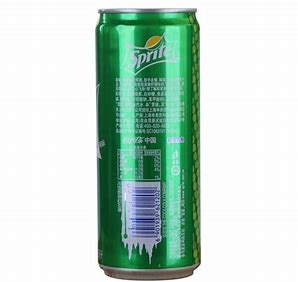Sprite: (93, 5, 206, 281)
